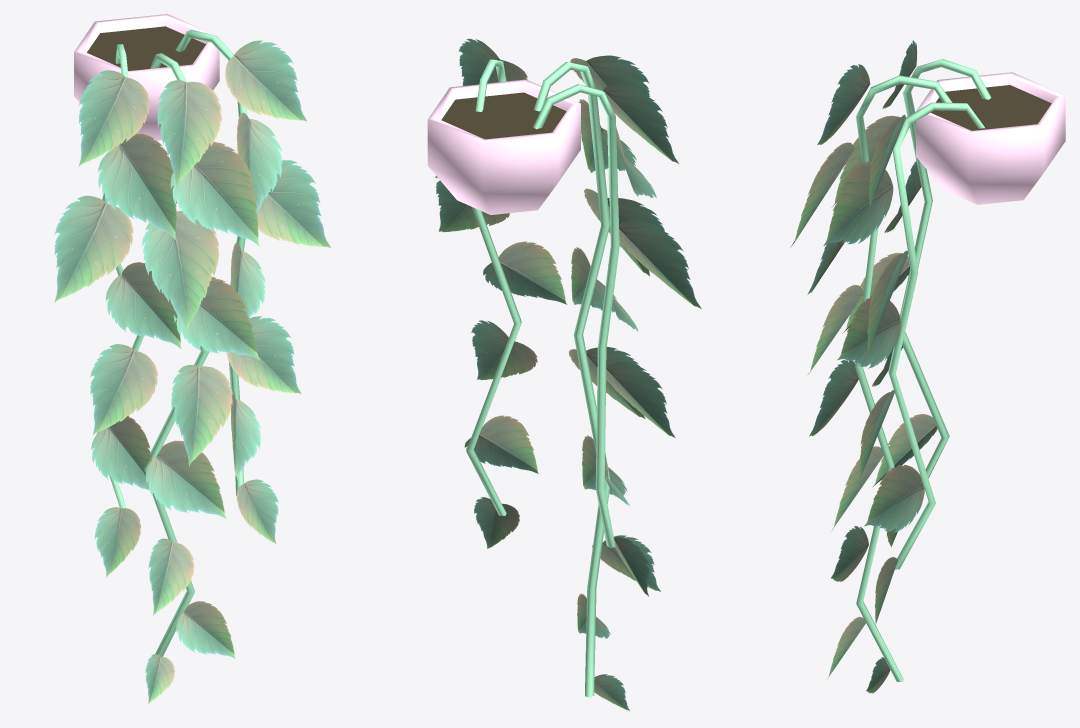
File: PlantHanging2.glb
3 views of the same model, side by side, from view 1: azimuth 30°, elevation 25°; view 2: azimuth 150°, elevation 25°; view 3: azimuth 270°, elevation 25° (orthographic). The views are drawn at different scales.
Visible parts, largest first — view 1: PantHanging2; view 2: PantHanging2; view 3: PantHanging2.
Part boxes in pixels (<box>): PantHanging2: <box>54,14,330,703</box>; PantHanging2: <box>427,38,701,710</box>; PantHanging2: <box>790,40,1065,693</box>.
Size of the model in its own units: 0.8388 by 1.54 by 0.6149.
Materials: 2 (2 with a texture image).
